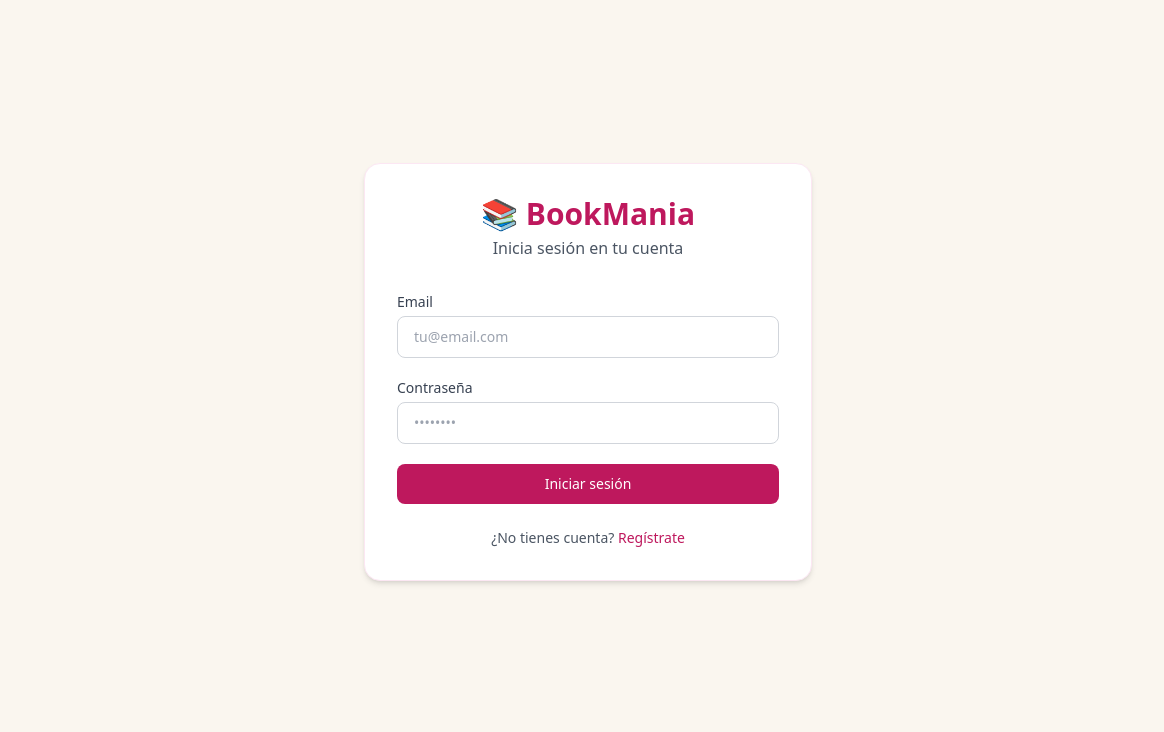
Scenario: LoginPage › tras iniciar sesión vuelve a la página que se quería visitar (?redirect=)
The width and height of the screenshot is (1164, 732).
Type "a@a.com" into the field labelled "Email" at (588, 337), box [397, 316, 779, 358]
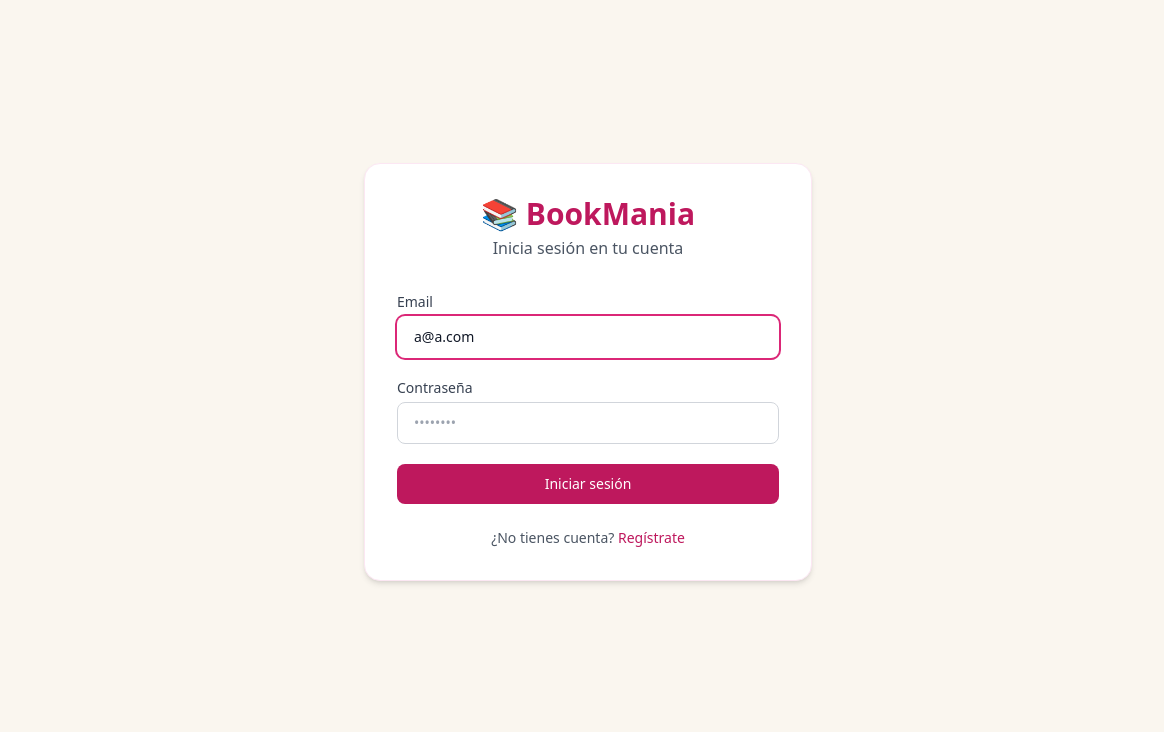
Type "secret" into the password field labelled "Contraseña" at (588, 423), box [397, 402, 779, 444]
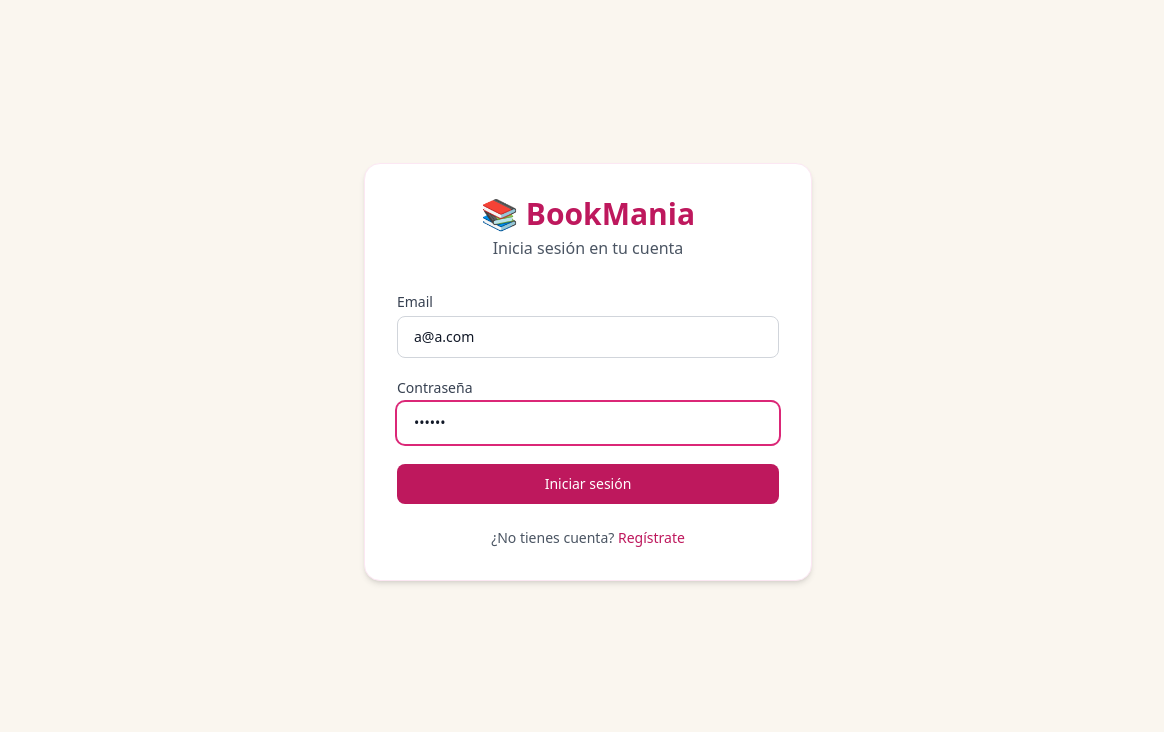
Click the button "Iniciar sesión" at (588, 484), box [397, 464, 779, 504]
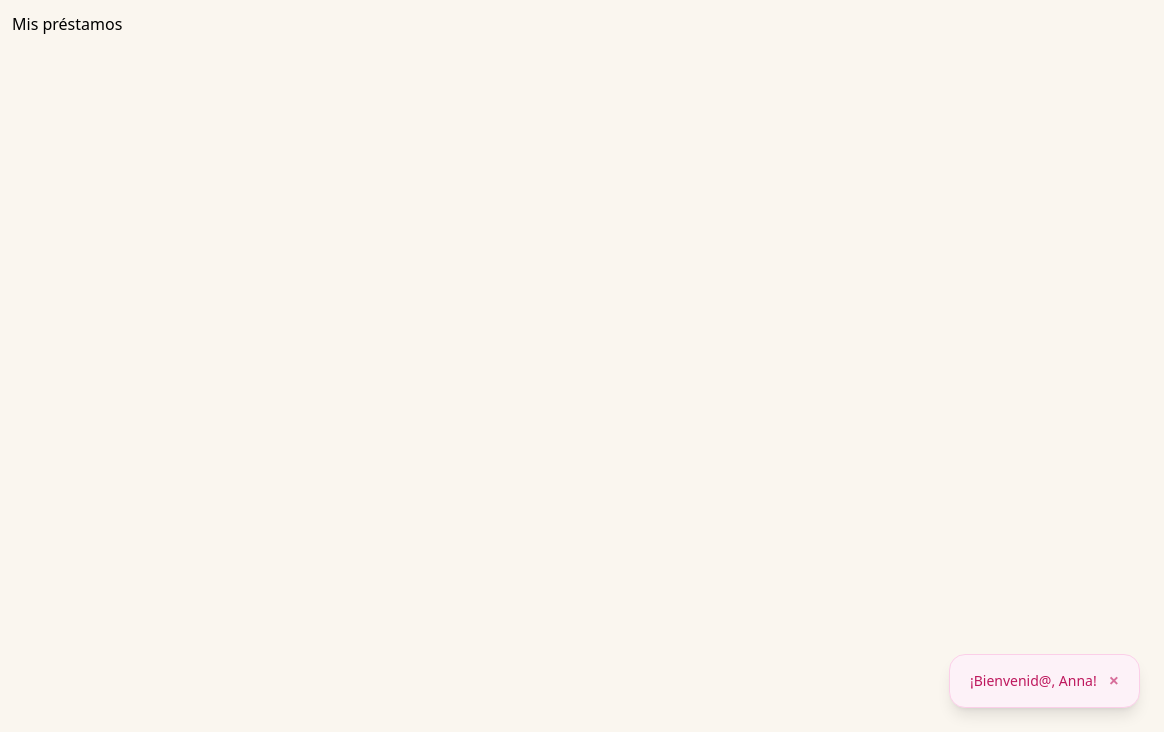
Expected: the text "Mis préstamos" is shown, [12, 13, 122, 35]
